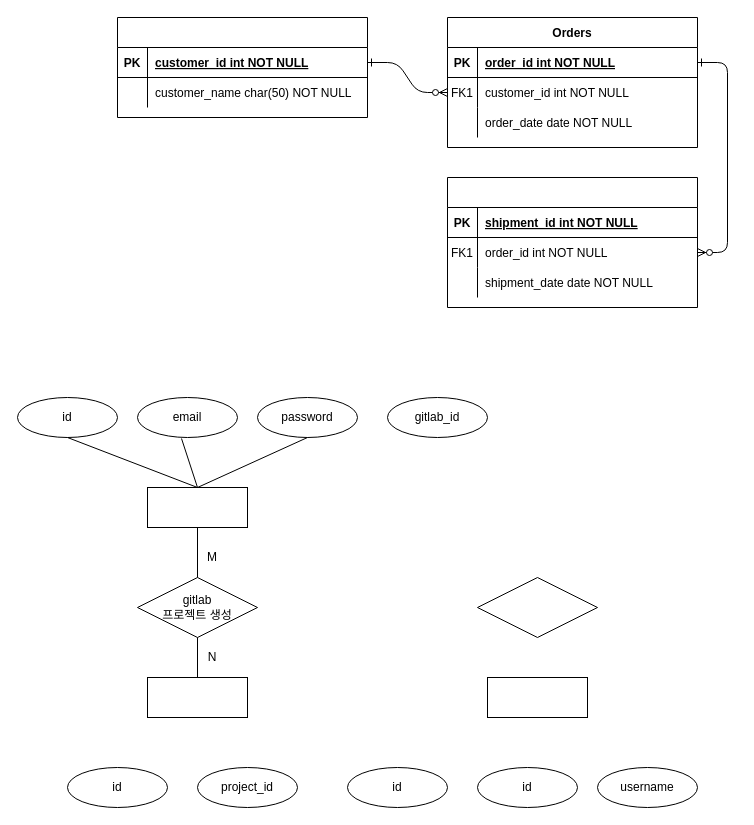
This 754x825 diagram has some shape labels left out. Here are the shapes that lost their labels. From the top down, the box of each, then its label:
(116, 16, 368, 118): Customers
(446, 176, 698, 308): Shipments
(146, 486, 248, 528): User
(476, 576, 598, 638): gitlab계정생성
(146, 676, 248, 718): Gitlab_project
(486, 676, 588, 718): GItlab_user
